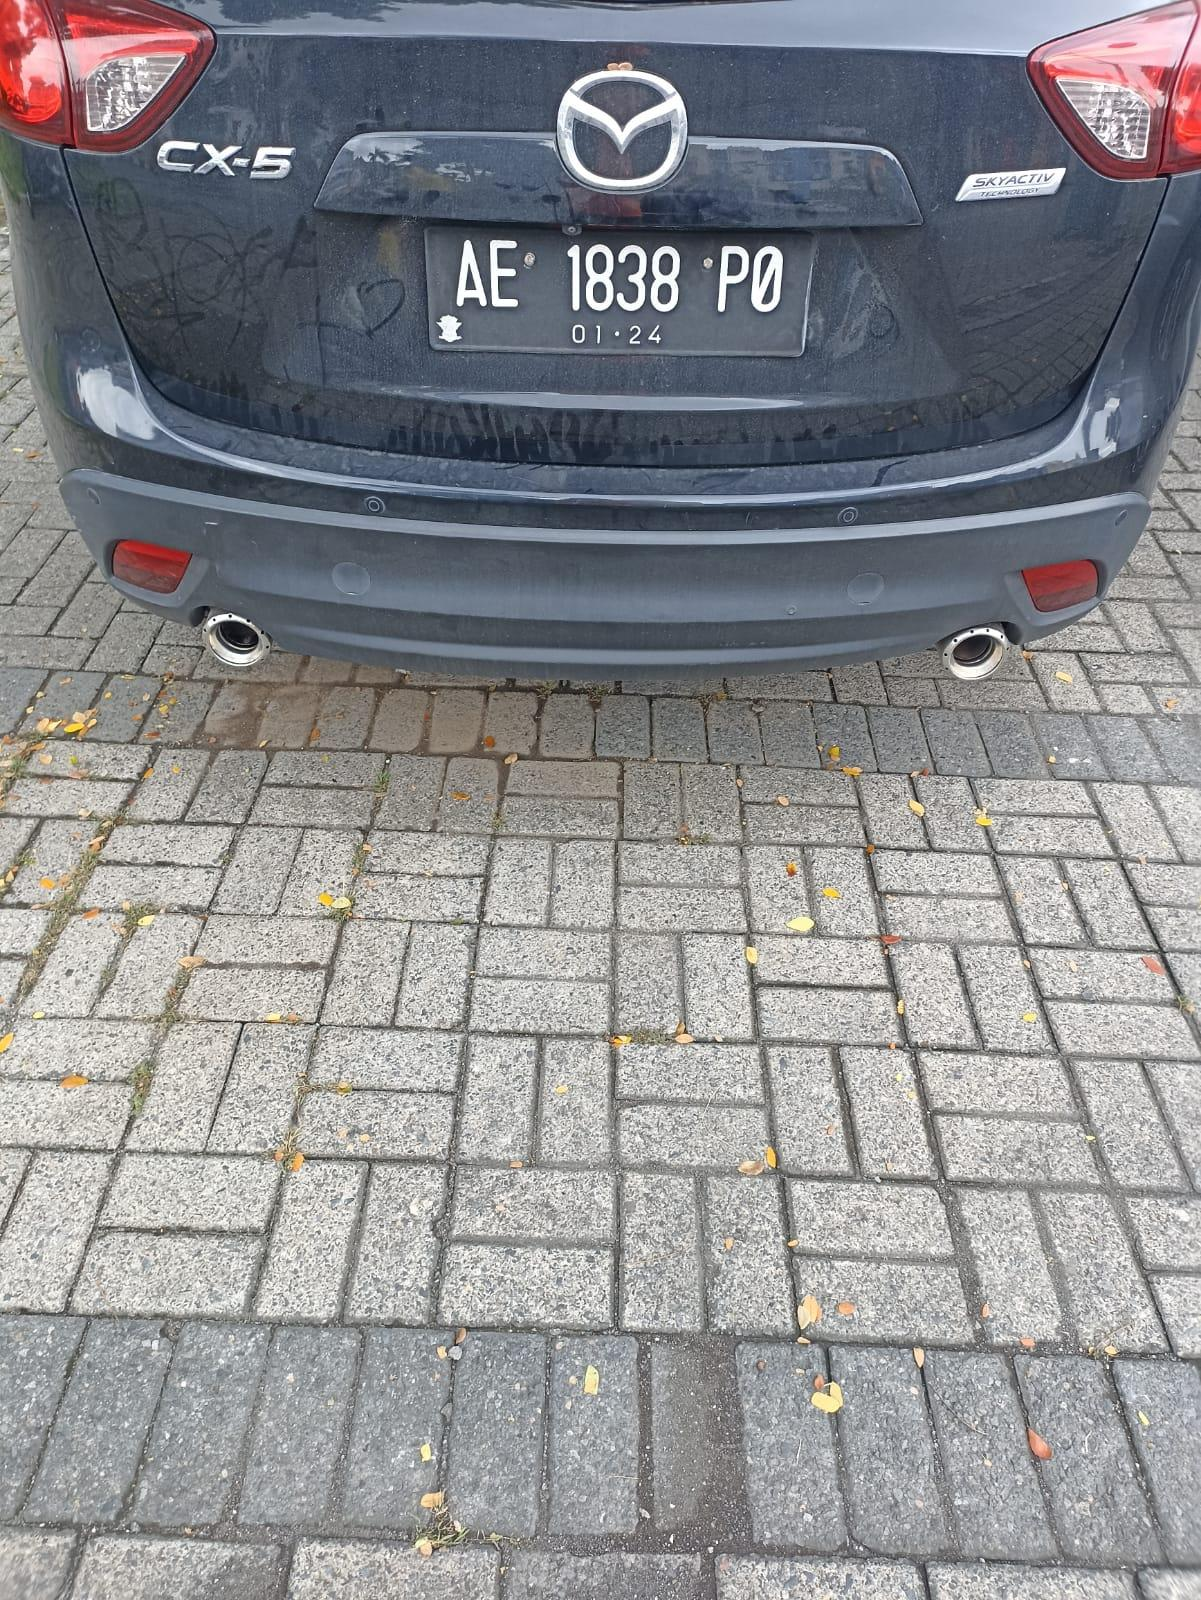plat: (425, 228, 812, 356)
